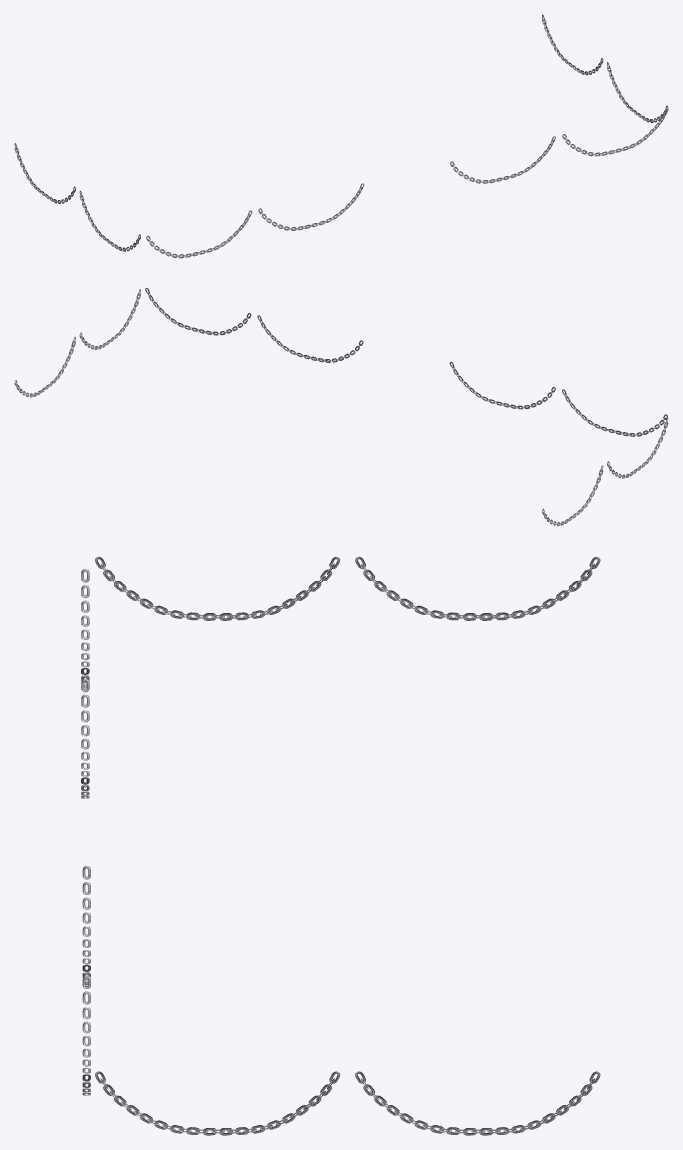
Rendered from found_chains_dock_6x4.dae.
3 views of the same model, one above another, from view 1: azimuth 30°, elevation 25°; view 2: azimuth 150°, elevation 25°; view 3: azimuth 270°, elevation 25° (orthographic). The views are drawn at different scales.
Parts seen in each view (by area): view 1: Plane066; view 2: Plane066; view 3: Plane066.
Boxes of the visible parts, left/top/right/bottom form: Plane066: left=14, top=14, right=668, bottom=258; Plane066: left=14, top=288, right=668, bottom=526; Plane066: left=81, top=556, right=600, bottom=1135.
Size of the model in its own units: 30.61 by 1.81 by 13.
